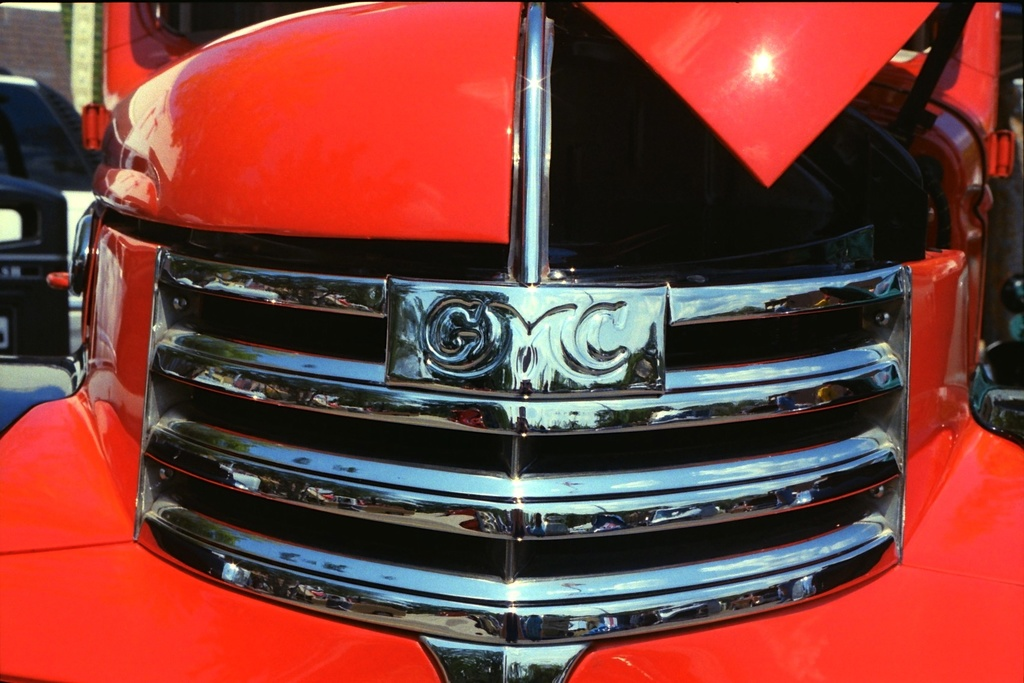Car: (0, 0, 1023, 682), (0, 71, 108, 360)
